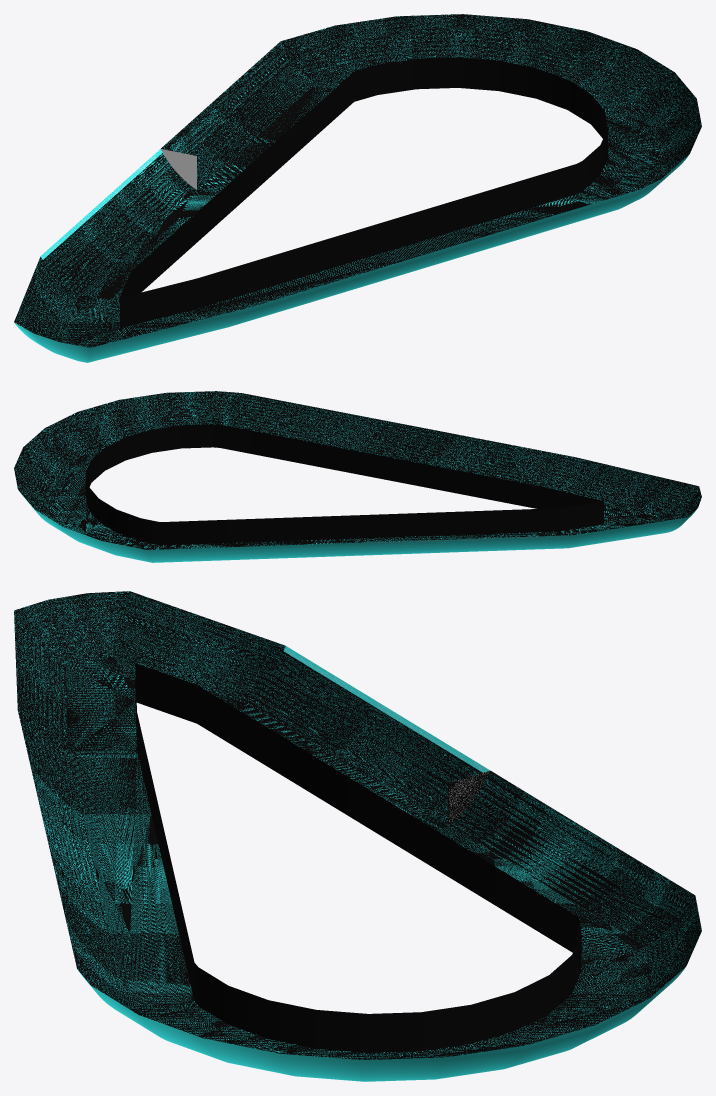
File: original-28.obj
3 views of the same model, one above another, from view 1: azimuth 30°, elevation 25°; view 2: azimuth 150°, elevation 25°; view 3: azimuth 270°, elevation 25° (orthographic). The views are drawn at different scales.
Parts seen in each view (by area): view 1: mesh58/mesh58-geometry#mesh58-geometry; view 2: mesh58/mesh58-geometry#mesh58-geometry; view 3: mesh58/mesh58-geometry#mesh58-geometry.
Part boxes in pixels (x1,y1,x2,y2): mesh58/mesh58-geometry#mesh58-geometry: [14, 14, 701, 362]; mesh58/mesh58-geometry#mesh58-geometry: [14, 391, 701, 562]; mesh58/mesh58-geometry#mesh58-geometry: [14, 591, 701, 1081].
Bounding box in the file's own units: 0.601 × 0.026 × 0.3726.
